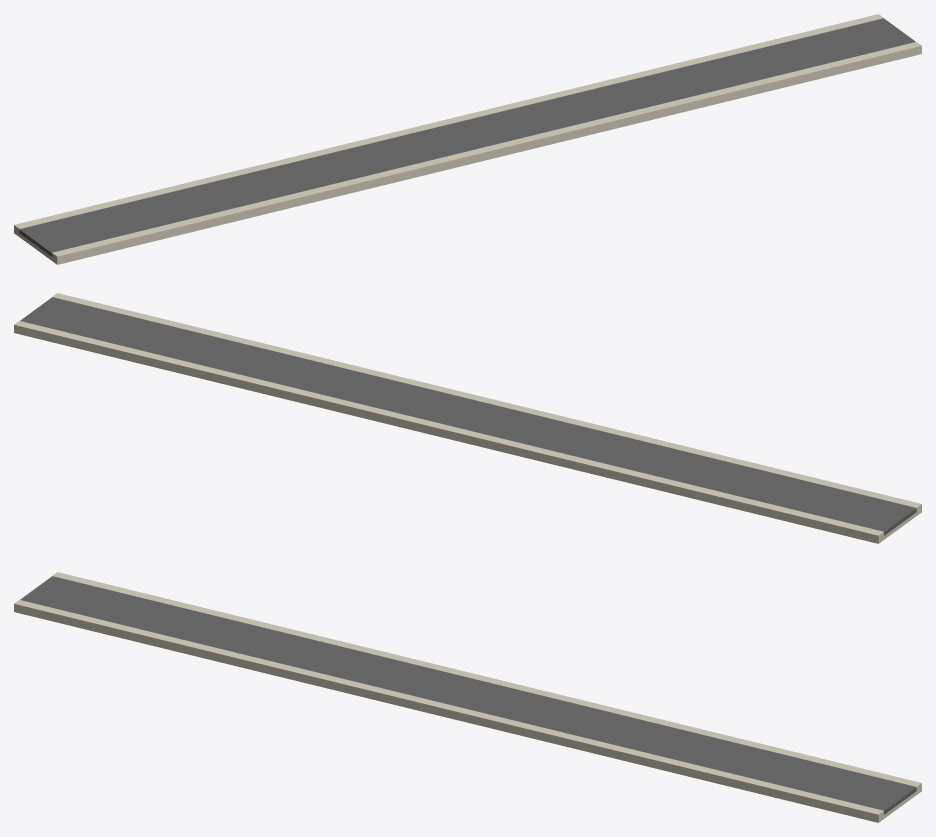
File: kenney-road-narrow.obj
3 views of the same model, one above another, from view 1: azimuth 30°, elevation 25°; view 2: azimuth 150°, elevation 25°; view 3: azimuth 330°, elevation 25° (orthographic).
Bounding box in the file's own units: 46 × 0.42 × 4.
Materials: 2 (2 with a texture image).
